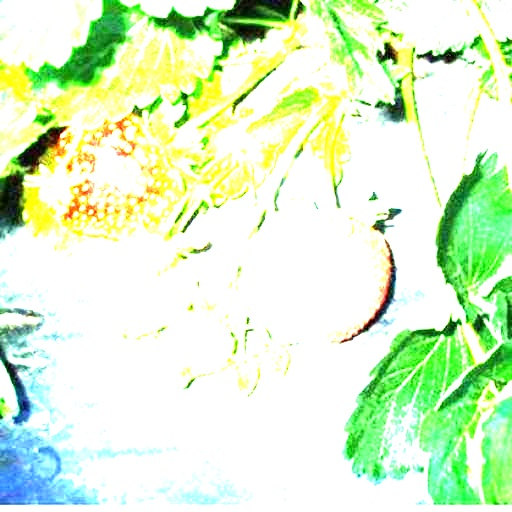Gray Mold: (242, 195, 390, 344)
